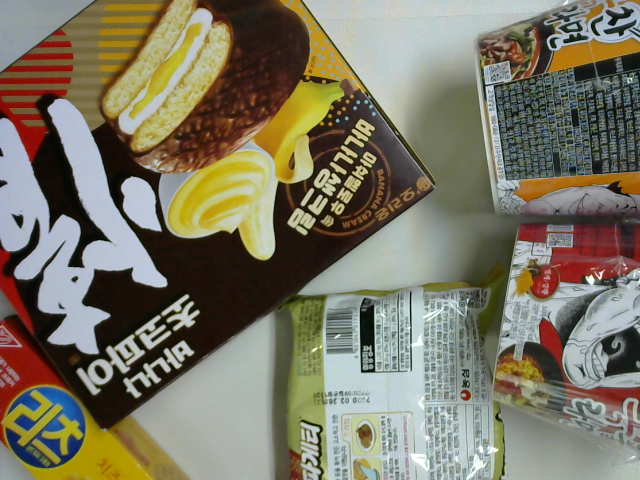Choco_Pie_Banana: (1, 1, 436, 434)
Hejangchan: (476, 1, 640, 228)
Hejangpul: (491, 215, 640, 466)
Olive_Chapaghetti: (275, 262, 508, 480)
Ritz_Sand_Cracker: (1, 310, 197, 478)
